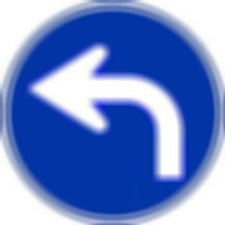Direction_sign: (5, 7, 222, 220)
